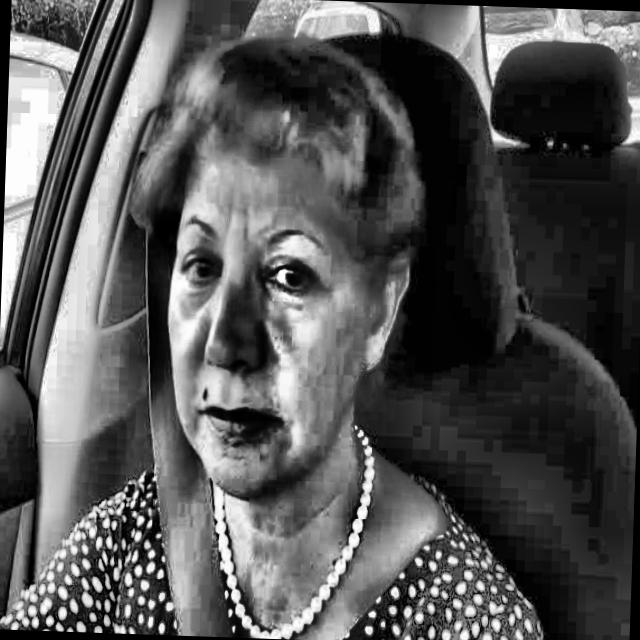closed_mouth: (185, 389, 302, 459)
open_eyes: (258, 241, 327, 303), (167, 241, 232, 297)
